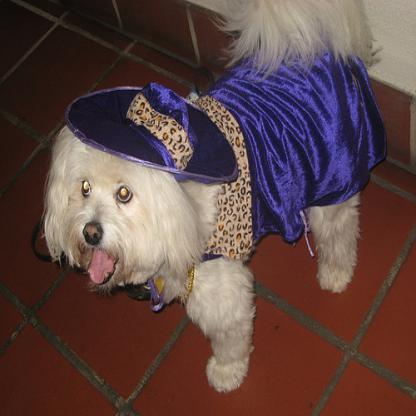dog: (42, 0, 375, 394)
